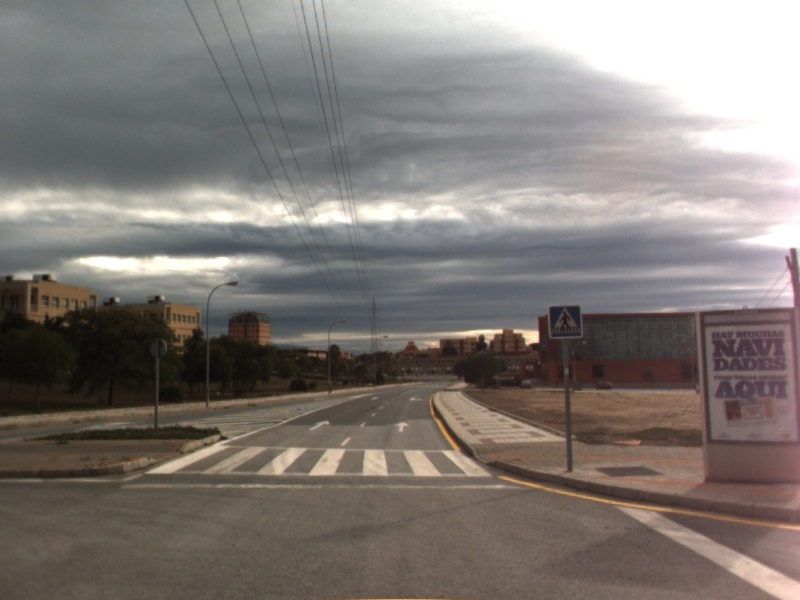STRAIGHT: (307, 418, 332, 432), (392, 420, 412, 434)
